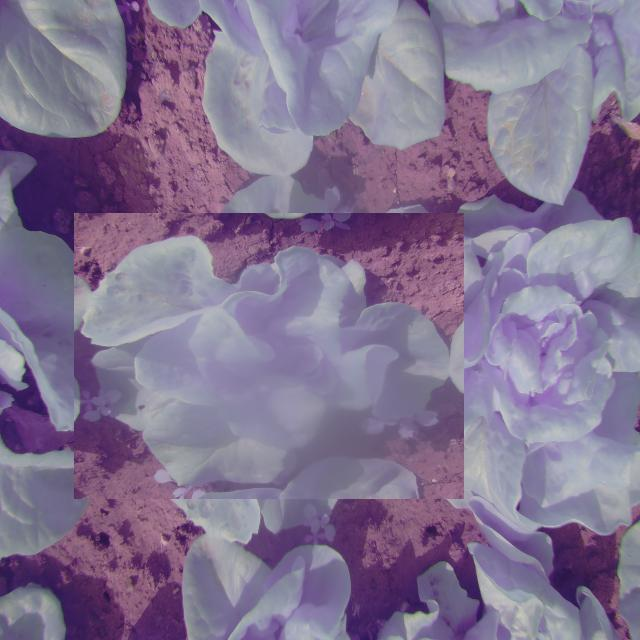vege: (100, 187, 439, 525)
